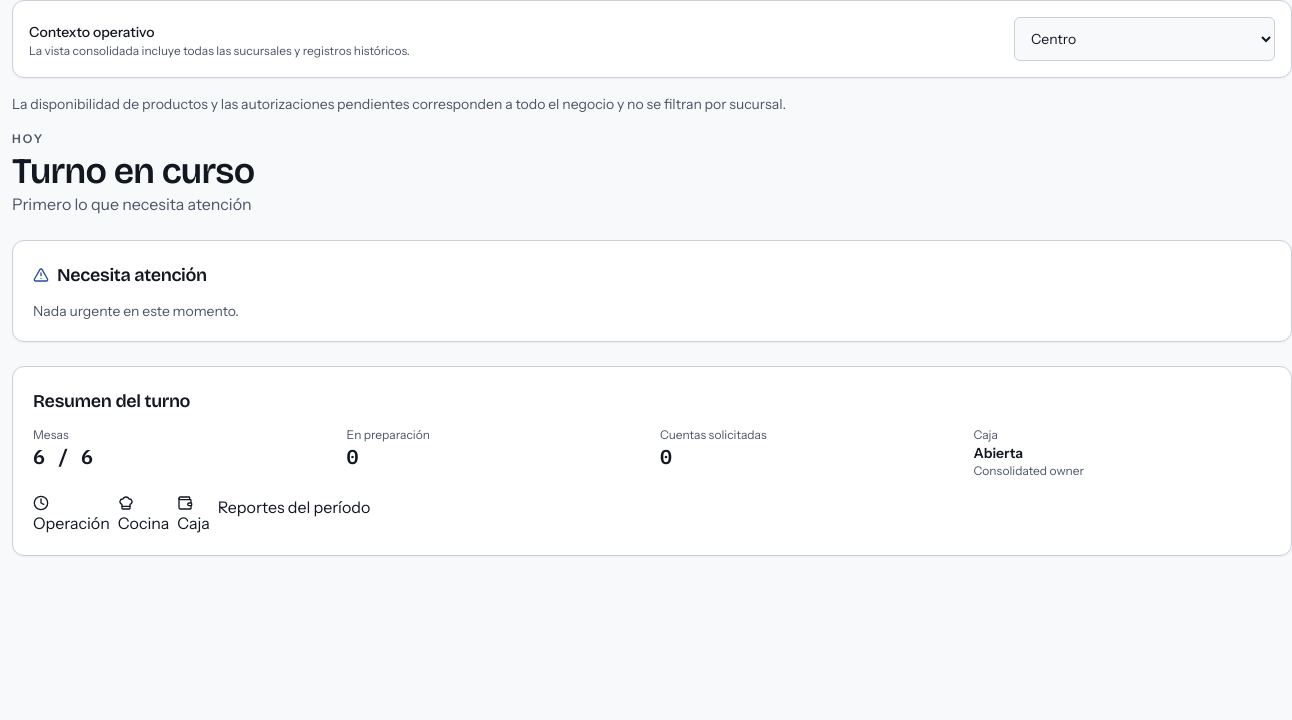
a removed selected branch fails closed without falling back to consolidated reads
Select "Centro" in the dropdown with test id "dashboard-branch-context": (1144, 39) [1014,17,1275,61]
Select "Centro" in the dropdown with test id "dashboard-branch-context": (1144, 39) [1014,17,1275,61]
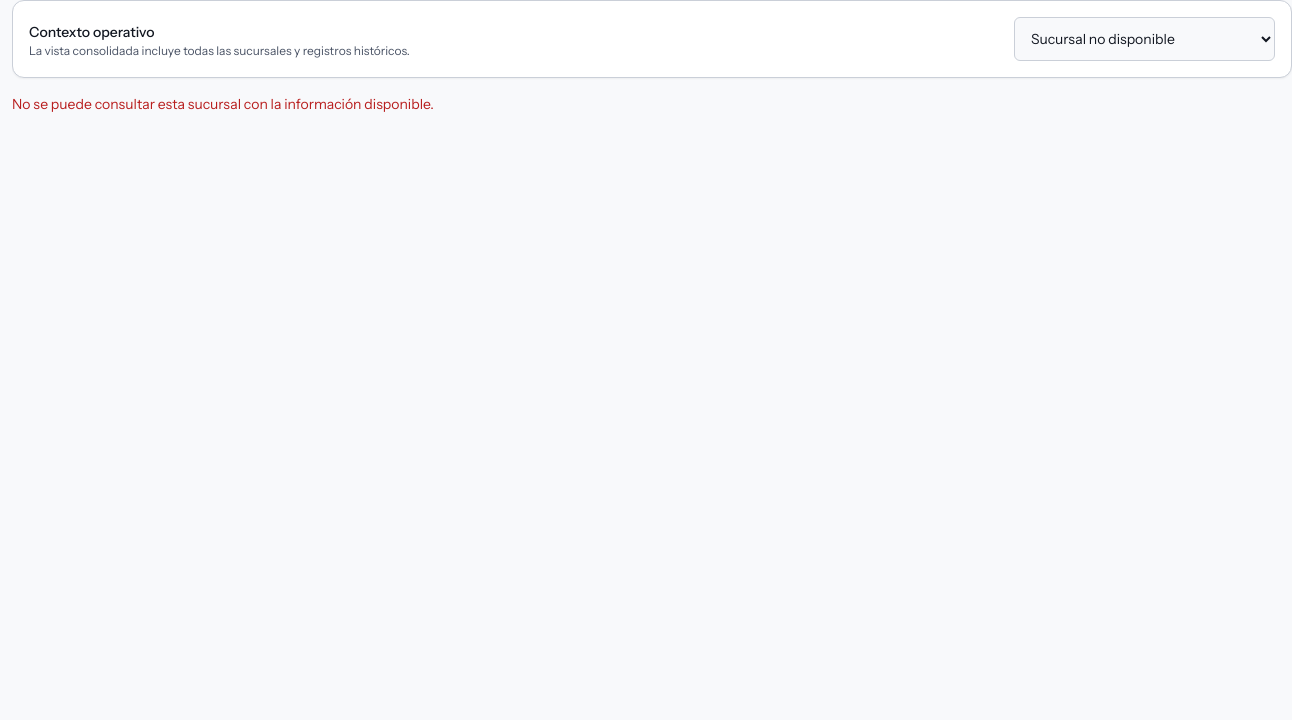
Expected: the text "No se puede consultar esta sucursal" is shown, [12,95,434,113]
Expected: the text "Consolidated owner" is gone
